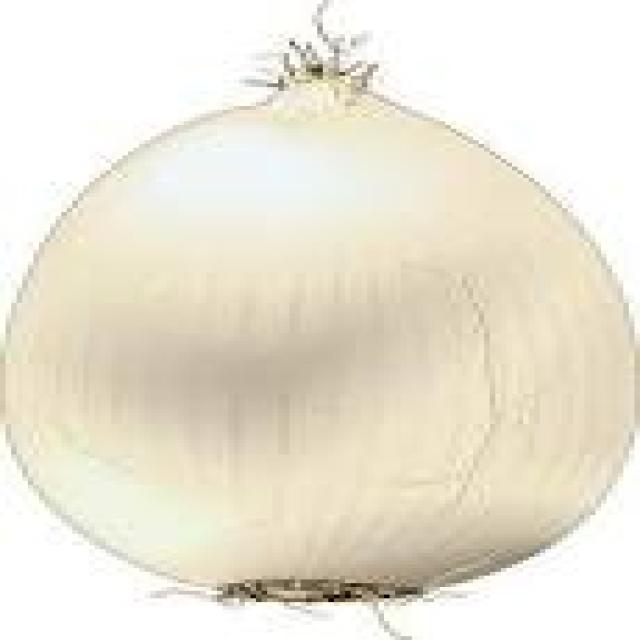onion: (22, 34, 596, 617)
